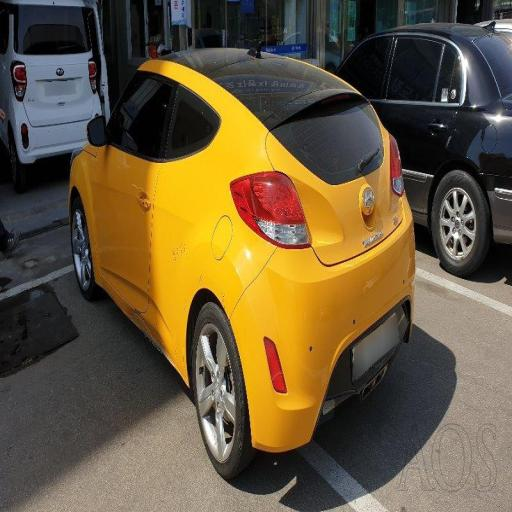broken: (270, 283, 444, 404)
